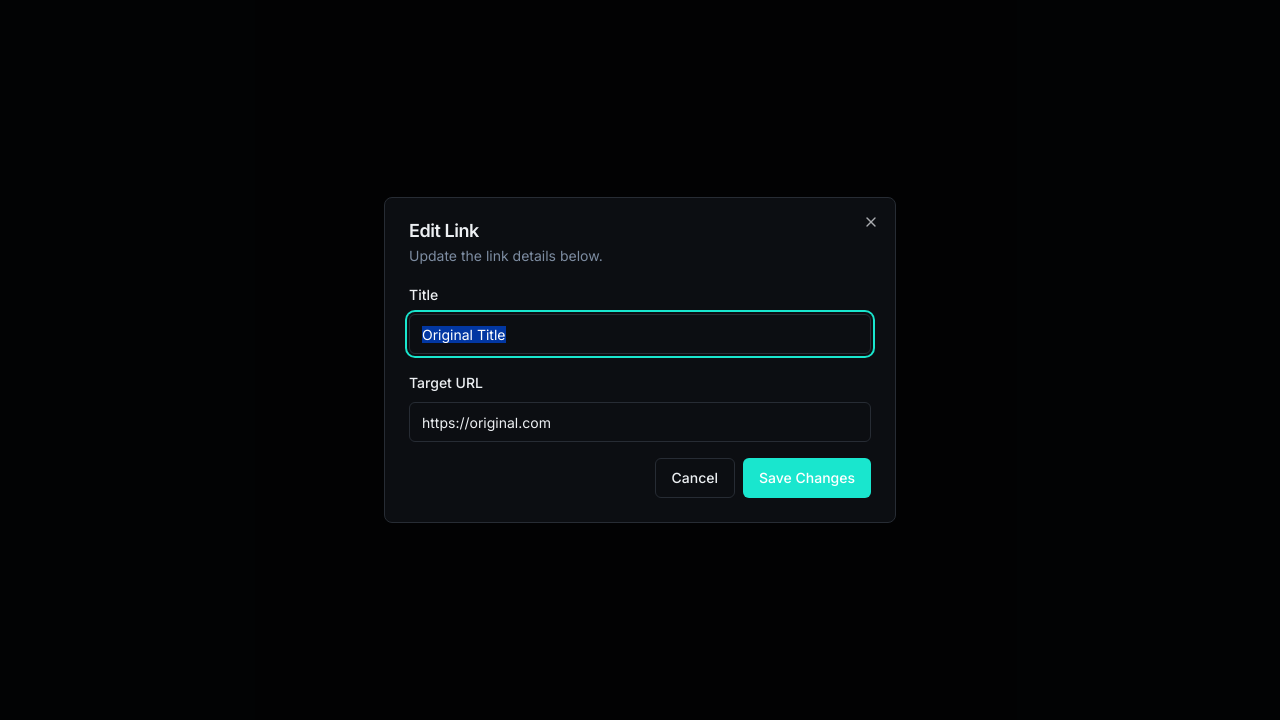
Test: LinkFormDialog › Edit mode › shows error message on failure
Replace the text in the field with placeholder "My awesome link" with "New" at x=640, y=334, box [409,314,871,354]
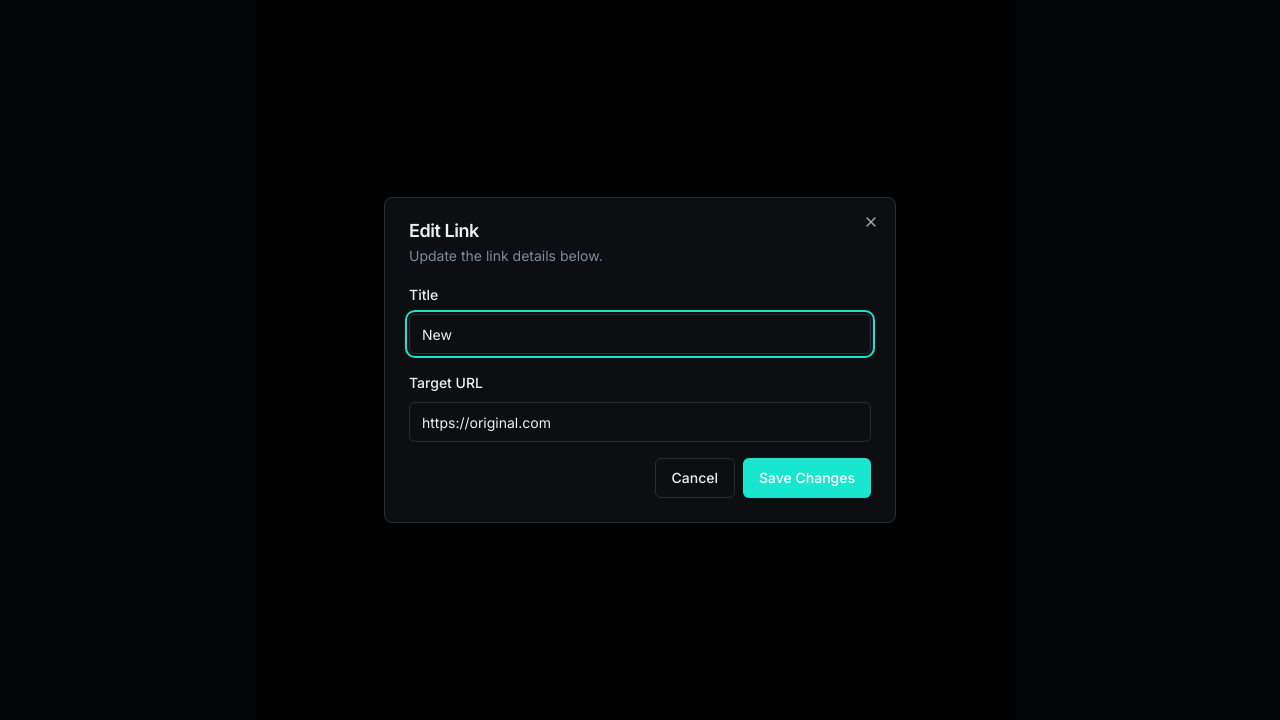
Submit the form with placeholder "My awesome link", box [409,282,871,498]
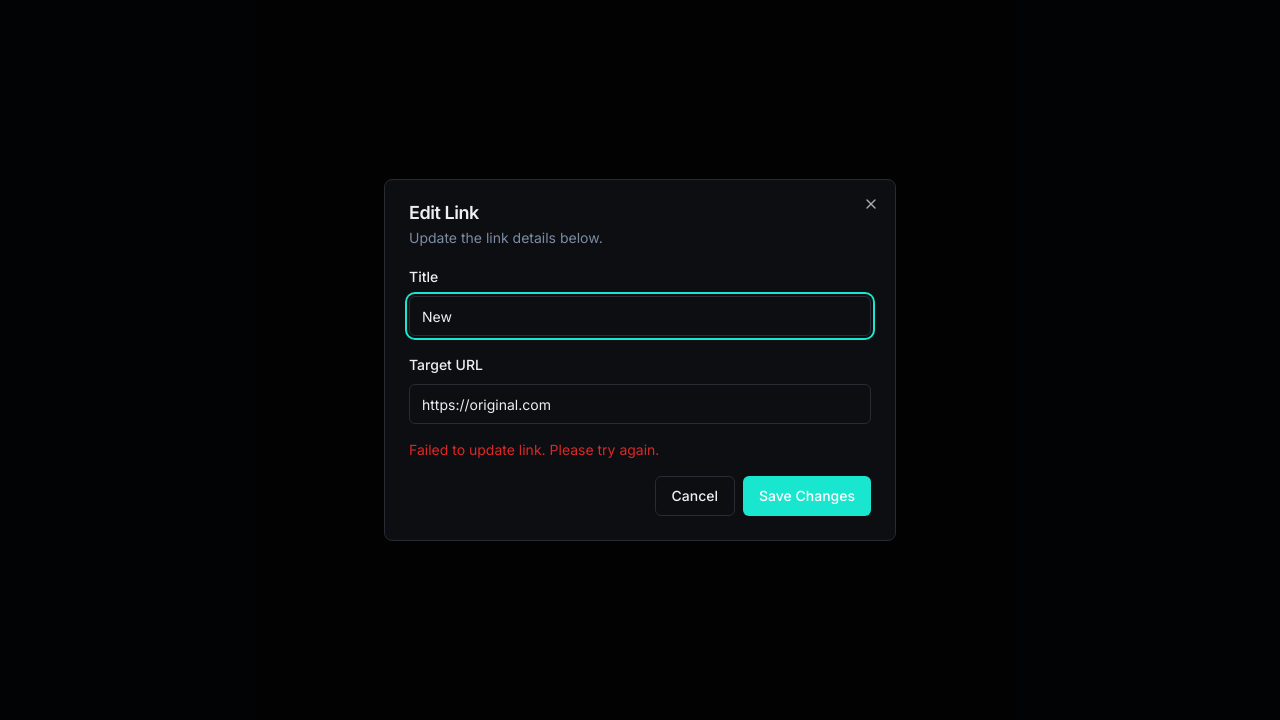
Check: the text "Failed to update link. Please try again." is shown, box [409,441,659,458]
